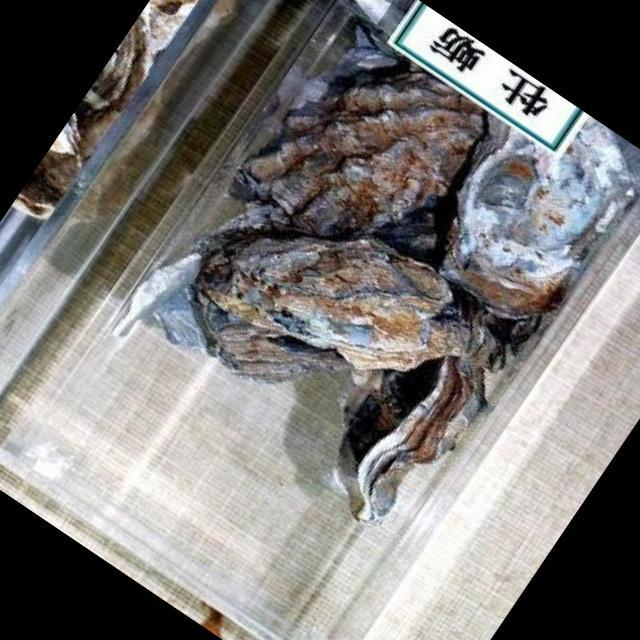Oyster- Indeterminate: (158, 162, 495, 476), (227, 3, 512, 291)
Oyster-Closed: (286, 285, 535, 560)
Oyster-Open: (405, 74, 640, 365)
